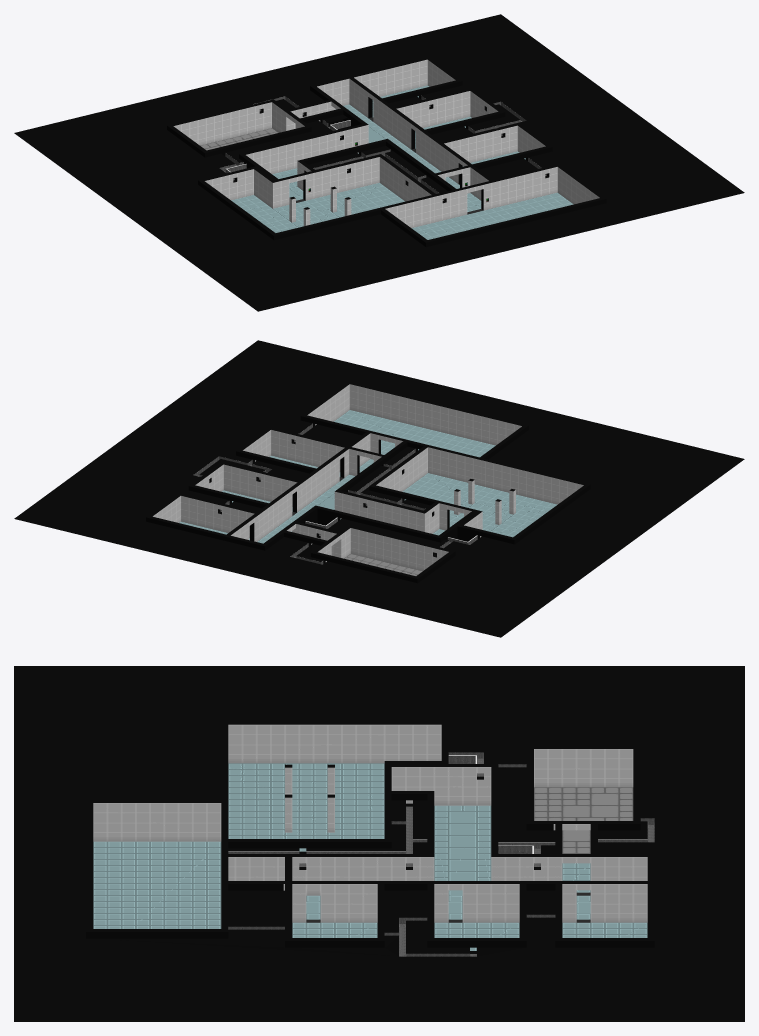
File: Science_map2.fbx
3 views of the same model, one above another, from view 1: azimuth 30°, elevation 25°; view 2: azimuth 150°, elevation 25°; view 3: azimuth 270°, elevation 25° (orthographic). The views are drawn at different scales.
Parts seen in each view (by area): view 1: RD-063, Wand-040 (×3), RD-010, Wand-015, RD-009, Wand-005, Wand-022 (×3), Wand-003 (×3), Wand-024 (×2), Wand-039, Wand-028, Wand-041 (×3) (+12 smaller); view 2: RD-063, Wand-042 (×3), Wand-037, Wand-024 (×2), RD-010, RD-009, Wand-017, Wand-009, Wand-040 (×3), Wand-041 (×3), Wand-025, Wand-003 (×2) (+11 smaller); view 3: RD-063, RD-009, RD-010, Wand-003 (×6), Wand-023, Wand-036, Wand-016, Wand-010, Wand-006, Wand-004 (×2), RD-011, Wand-041 (×3) (+22 smaller).
Boxes of the visible parts, <box> form: RD-063: <box>14,14,744,311</box>; Wand-040 (×3): <box>346,57,521,162</box>; RD-010: <box>231,182,404,232</box>; Wand-015: <box>167,100,271,145</box>; RD-009: <box>411,192,573,239</box>; Wand-005: <box>243,127,352,173</box>; Wand-022 (×3): <box>198,166,289,208</box>; Wand-003 (×3): <box>349,77,462,184</box>; Wand-024 (×2): <box>284,195,434,237</box>; Wand-039: <box>494,165,557,207</box>; Wand-028: <box>316,155,379,197</box>; Wand-041 (×3): <box>427,58,552,152</box>; RD-063: <box>14,340,744,637</box>; Wand-042 (×3): <box>181,428,346,540</box>; Wand-037: <box>346,381,524,445</box>; Wand-024 (×2): <box>428,445,577,504</box>; RD-010: <box>402,473,557,537</box>; RD-009: <box>334,410,495,457</box>; Wand-017: <box>347,525,451,571</box>; Wand-009: <box>334,490,422,530</box>; Wand-040 (×3): <box>146,449,315,541</box>; Wand-041 (×3): <box>148,427,272,522</box>; Wand-025: <box>369,444,429,491</box>; Wand-003 (×2): <box>269,454,339,529</box>; RD-063: <box>14,666,744,1021</box>; RD-009: <box>93,841,221,928</box>; RD-010: <box>228,763,384,851</box>; Wand-003 (×6): <box>283,881,647,922</box>; Wand-023: <box>221,721,441,763</box>; Wand-036: <box>86,800,221,841</box>; Wand-016: <box>526,746,633,787</box>; Wand-010: <box>293,854,427,895</box>; Wand-006: <box>391,764,498,805</box>; Wand-004 (×2): <box>498,854,647,880</box>; RD-011: <box>306,805,590,919</box>; Wand-041 (×3): <box>285,938,647,953</box>.
Size of the model in its own units: 5924 by 5143 by 320.
11 materials, 8 textured.
